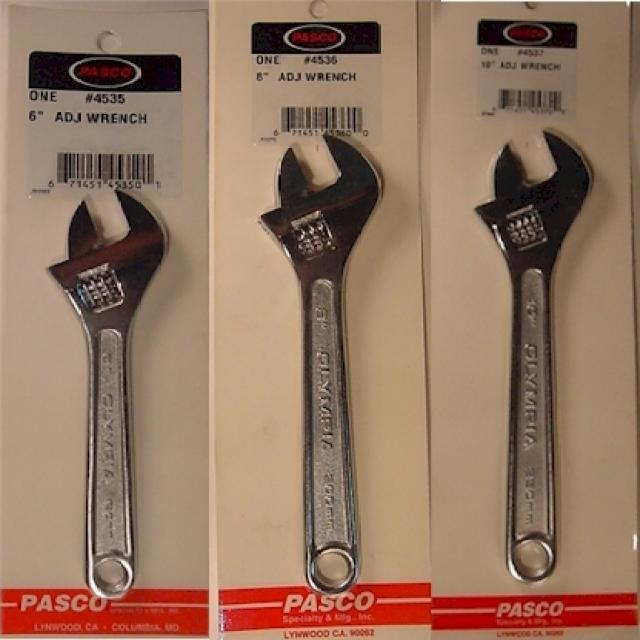wrench: (252, 126, 392, 600), (470, 122, 602, 588), (41, 182, 178, 606)
